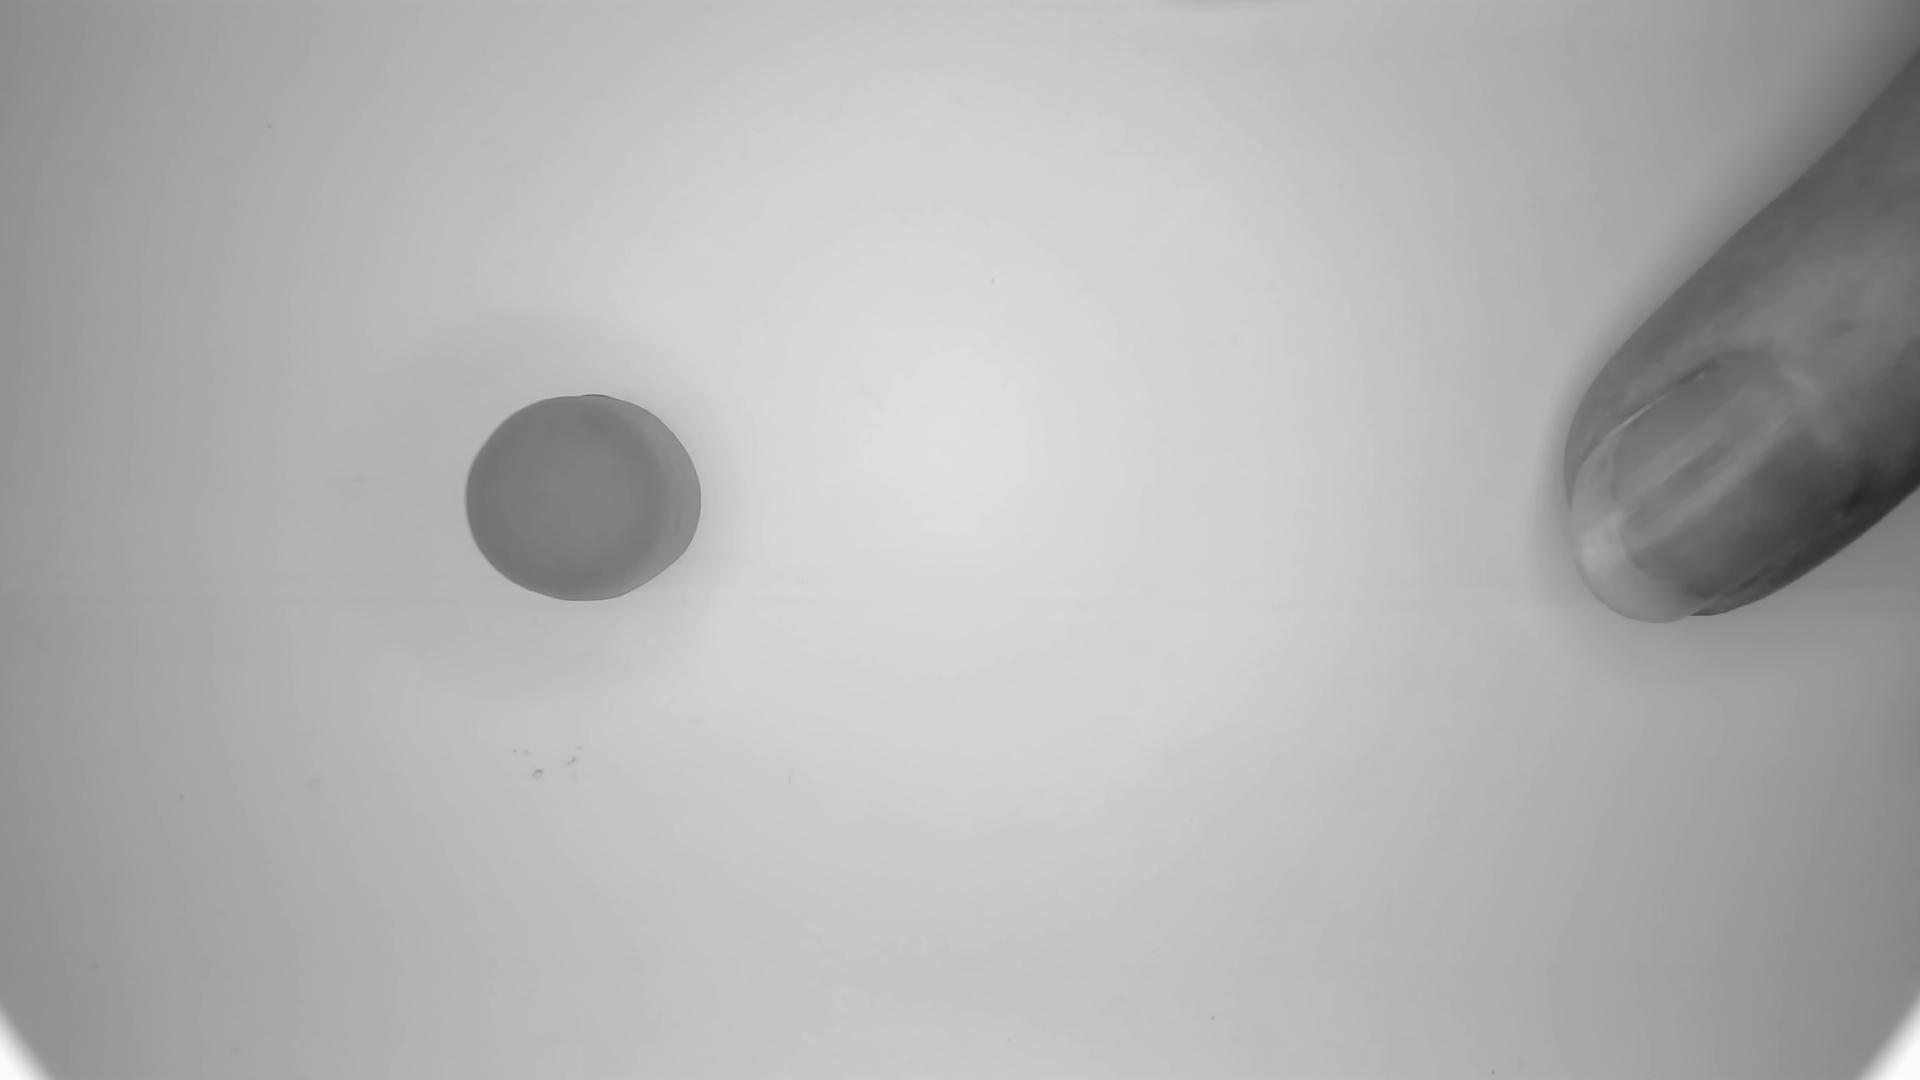normal: (463, 394, 704, 604)
